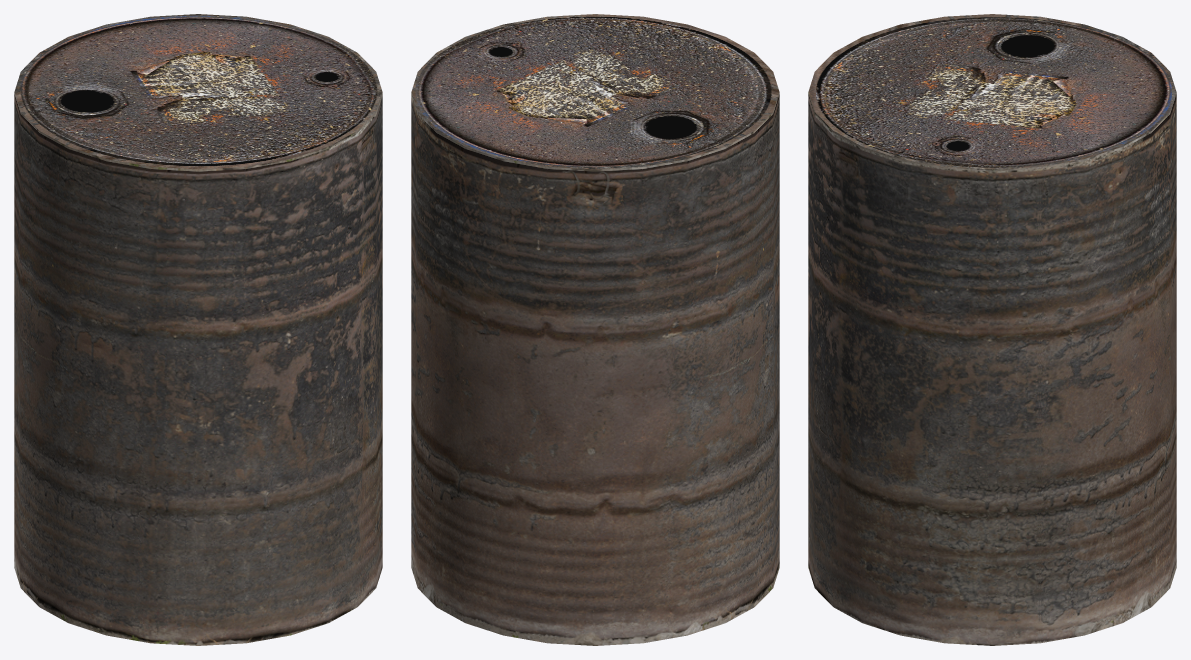
File: cell_barrel_metal.fbx
3 views of the same model, side by side, from view 1: azimuth 30°, elevation 25°; view 2: azimuth 150°, elevation 25°; view 3: azimuth 270°, elevation 25° (orthographic).
Parts seen in each view (by area): view 1: metal_barrel; view 2: metal_barrel; view 3: metal_barrel.
Boxes of the visible parts, left/top/right/bottom form: metal_barrel: left=14, top=14, right=382, bottom=645; metal_barrel: left=411, top=14, right=779, bottom=645; metal_barrel: left=808, top=14, right=1176, bottom=645.
Bounding box in the file's own units: 140 × 200 × 140.
